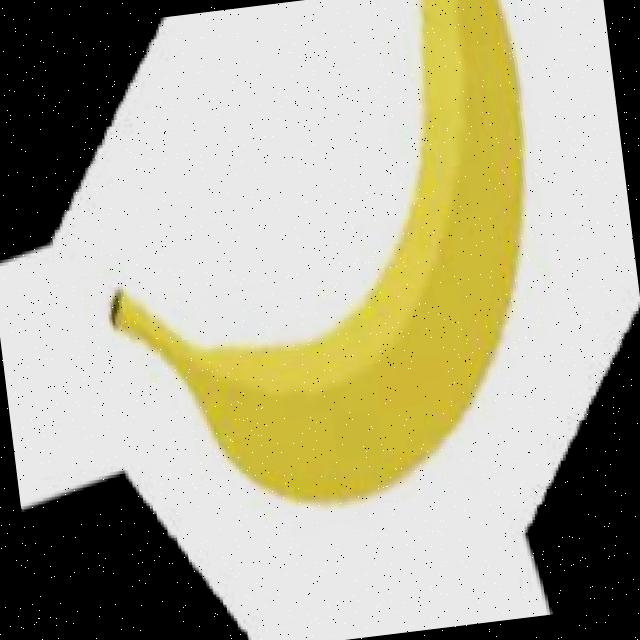banana: (50, 0, 597, 539)
